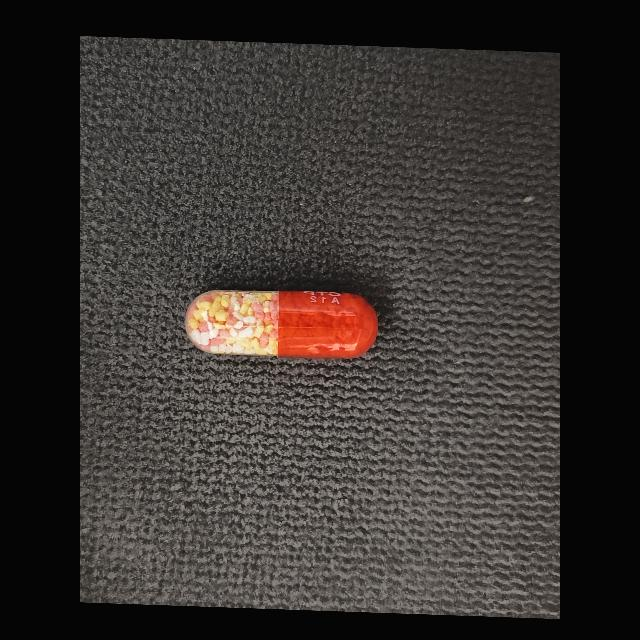Intact Capsule: (185, 290, 378, 359)
